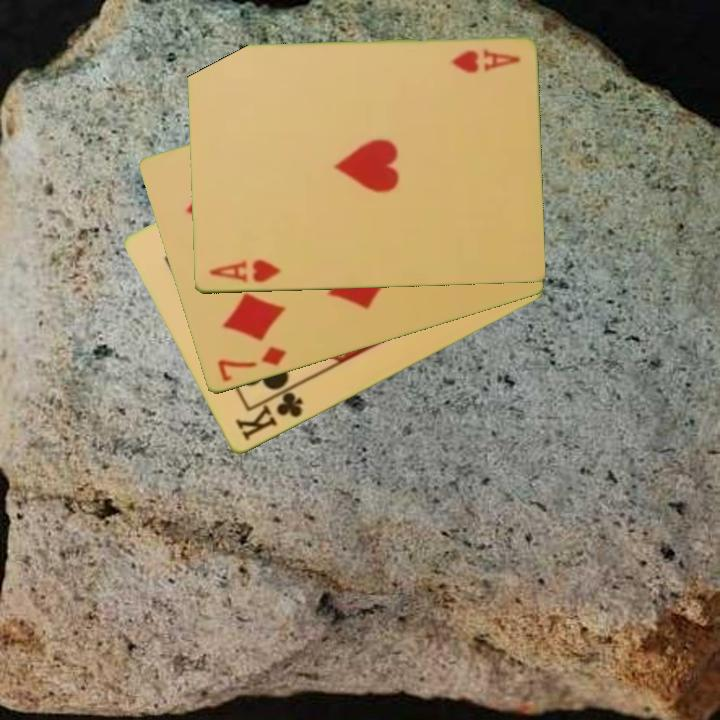7d: (213, 343, 289, 385)
Ah: (205, 256, 283, 286), (447, 45, 523, 75)
Kc: (231, 382, 306, 445)
